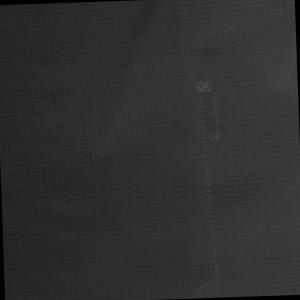Damage: (193, 74, 229, 150)
Wrinkle: (1, 4, 76, 300), (77, 1, 189, 163), (186, 172, 300, 299)
